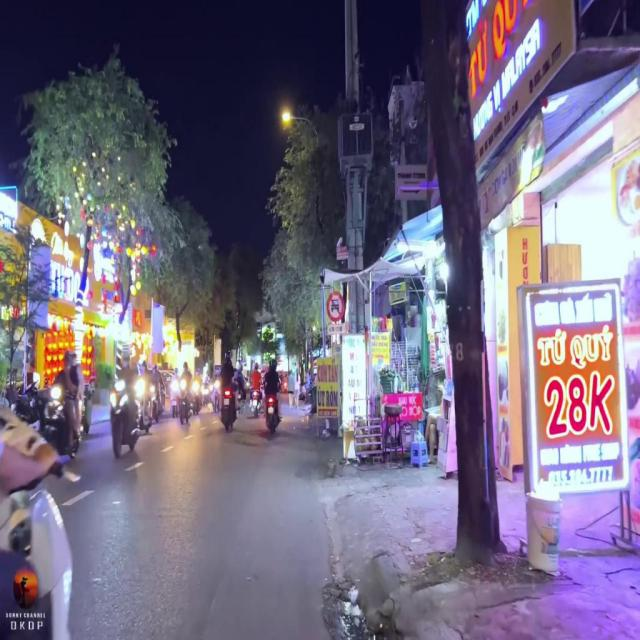cam_o_to: (326, 291, 345, 324)
khac: (328, 323, 346, 335)
